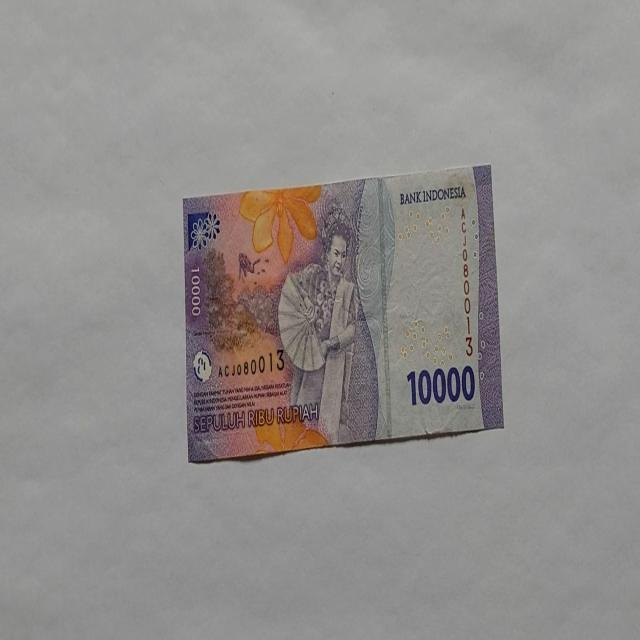sepuluh ribu rupiah: (182, 162, 504, 464)
